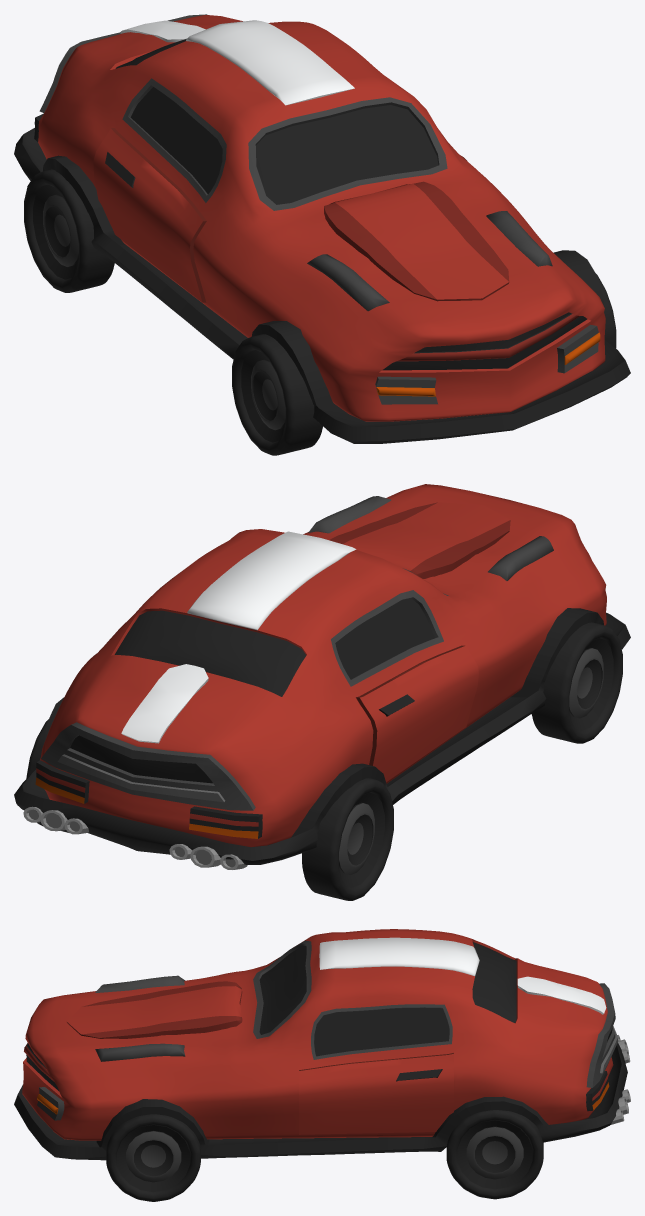
File: Car.fbx
3 renders of one model, top to bottom at view 1: azimuth 30°, elevation 25°; view 2: azimuth 150°, elevation 25°; view 3: azimuth 270°, elevation 25°, orthographic. The views are drawn at different scales.
Parts seen in each view (by area): view 1: Car, Cylinder.004, Cylinder.005; view 2: Car, Cylinder.005, Cylinder.004; view 3: Car, Cylinder.005, Cylinder.004.
Part boxes in pixels (box(x1,y1,x2,y2)): Car: box(14, 14, 630, 443); Cylinder.004: box(232, 274, 616, 455); Cylinder.005: box(24, 169, 114, 292); Car: box(14, 484, 630, 869); Cylinder.005: box(26, 719, 393, 900); Cylinder.004: box(531, 622, 622, 743); Car: box(14, 929, 630, 1160); Cylinder.005: box(446, 1110, 543, 1199); Cylinder.004: box(106, 1114, 200, 1201).
Bounding box in the file's own units: 1.42 × 1.02 × 2.96.
